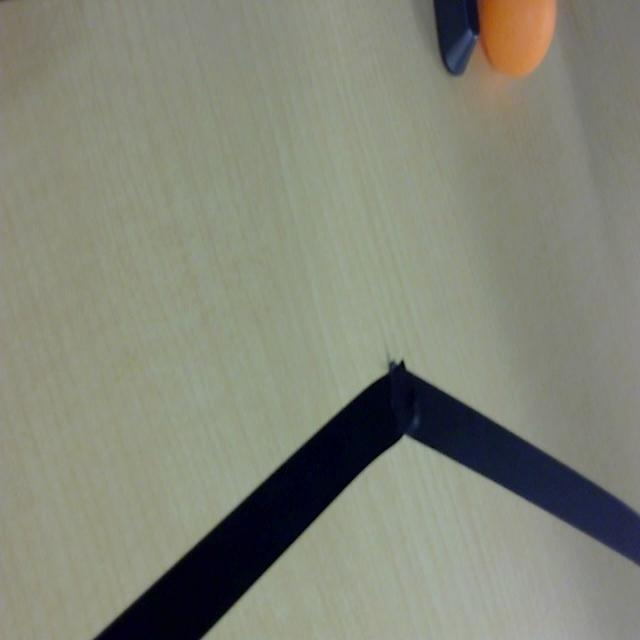ball: (477, 0, 560, 80)
tape: (92, 363, 640, 640)
